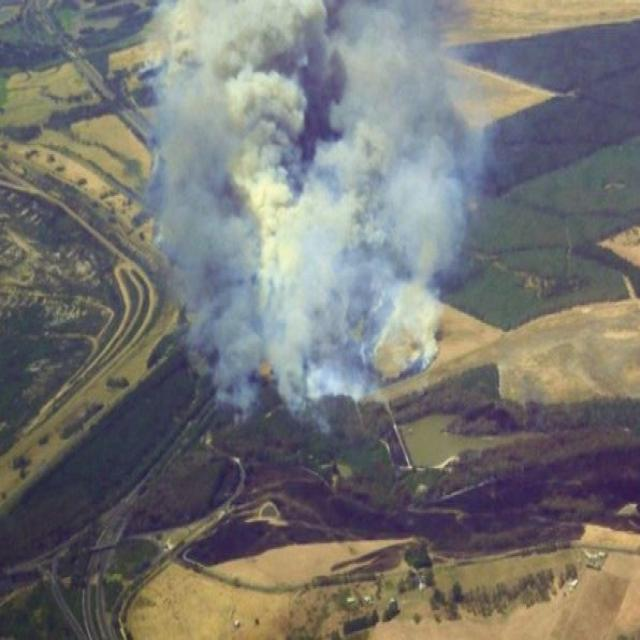Smoke: (150, 0, 488, 394)
